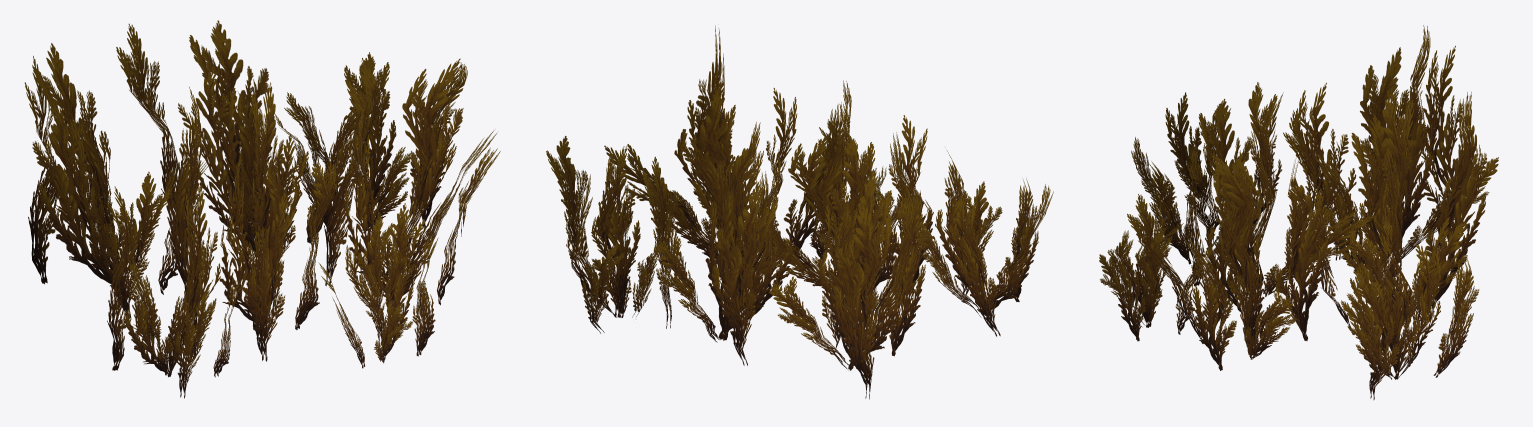
File: SeaWeed07_LOD0_newsmall.glb
The picture shows the model from 3 angles, left to right: view 1: azimuth 30°, elevation 25°; view 2: azimuth 150°, elevation 25°; view 3: azimuth 270°, elevation 25°; orthographic projection. The views are drawn at different scales.
Visible parts, largest first — view 1: SeaWeed07_high; view 2: SeaWeed07_high; view 3: SeaWeed07_high.
Part boxes in pixels (<box>): SeaWeed07_high: <box>24,20,500,398</box>; SeaWeed07_high: <box>546,25,1053,399</box>; SeaWeed07_high: <box>1099,25,1498,400</box>.
Size of the model in its own units: 0.3135 by 0.1777 by 0.2852.
1 material, 1 textured.
